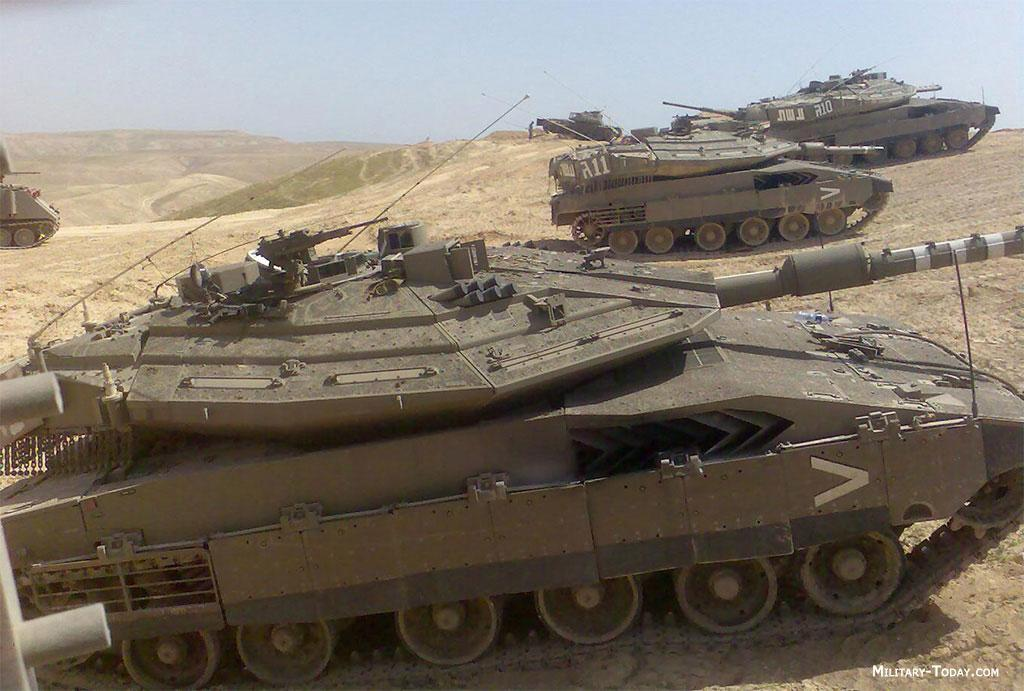tank: (0, 223, 1024, 691), (548, 132, 894, 254), (707, 67, 1003, 170), (0, 134, 65, 253), (535, 107, 624, 142)
